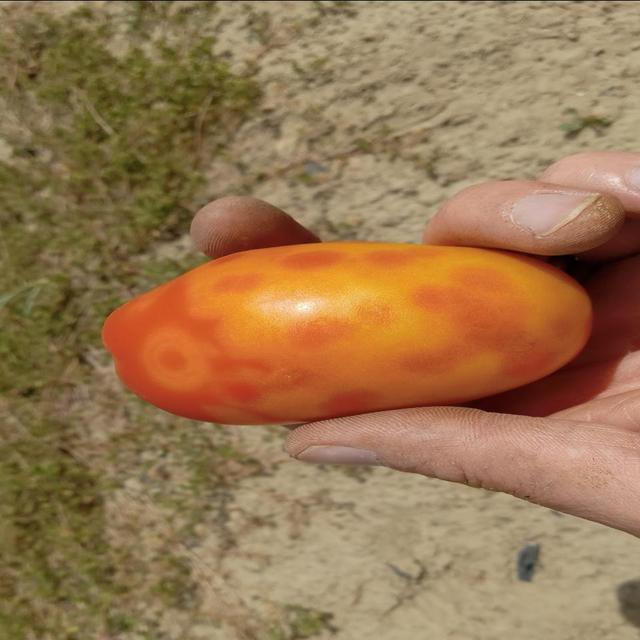Spotted wilt Virus Fruit: (69, 143, 270, 426)
